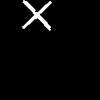single_crochet: (23, 1, 51, 29)
